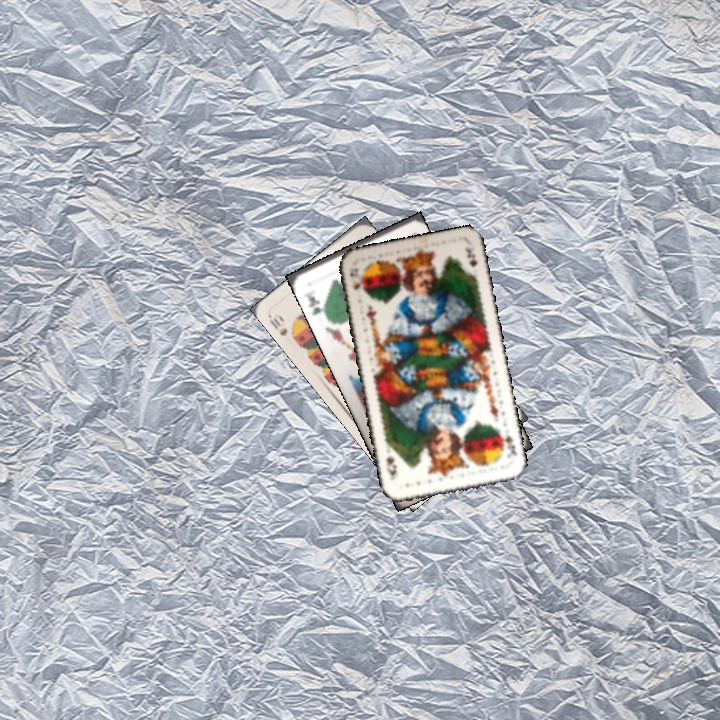GK: (303, 290, 329, 319)
S10: (265, 310, 300, 343)
SK: (496, 427, 519, 458), (345, 264, 365, 294)
